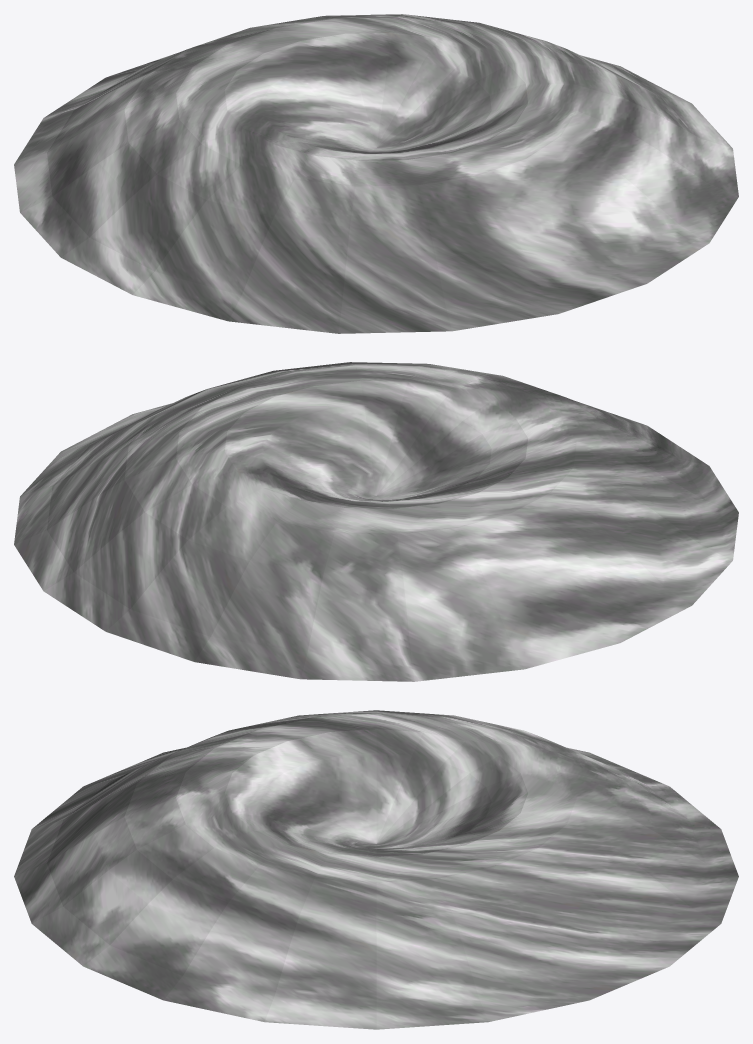
File: WhirlWindB.fbx
The picture shows the model from 3 angles, top to bottom: view 1: azimuth 30°, elevation 25°; view 2: azimuth 150°, elevation 25°; view 3: azimuth 270°, elevation 25°; orthographic projection.
Parts seen in each view (by area): view 1: SM_WEP_Eff_D24NJ1_B_01.mo; view 2: SM_WEP_Eff_D24NJ1_B_01.mo; view 3: SM_WEP_Eff_D24NJ1_B_01.mo.
Boxes of the visible parts, x1,y1,x2,y2 form: SM_WEP_Eff_D24NJ1_B_01.mo: [14, 14, 738, 333]; SM_WEP_Eff_D24NJ1_B_01.mo: [14, 362, 738, 681]; SM_WEP_Eff_D24NJ1_B_01.mo: [14, 710, 738, 1029].
Size of the model in its own units: 97.21 by 12.33 by 97.21.
